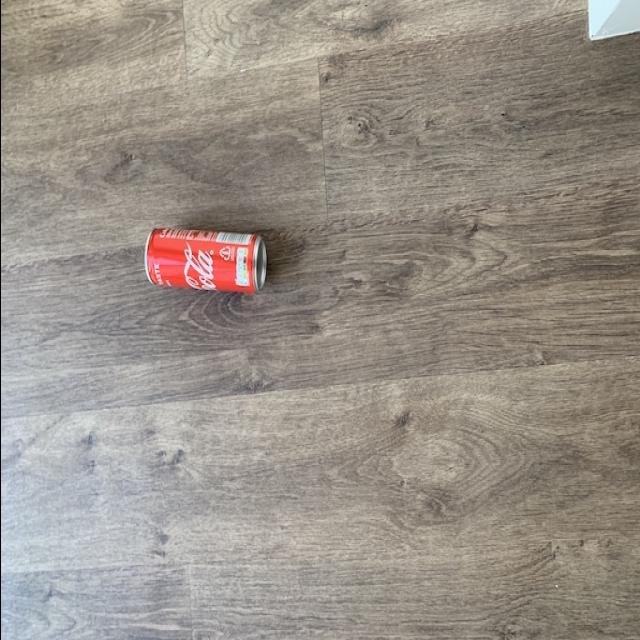Aluminum Can: (139, 218, 267, 296)
